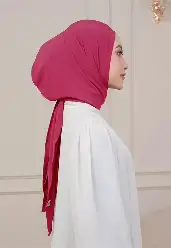kerudung_benar: (36, 13, 128, 105)
